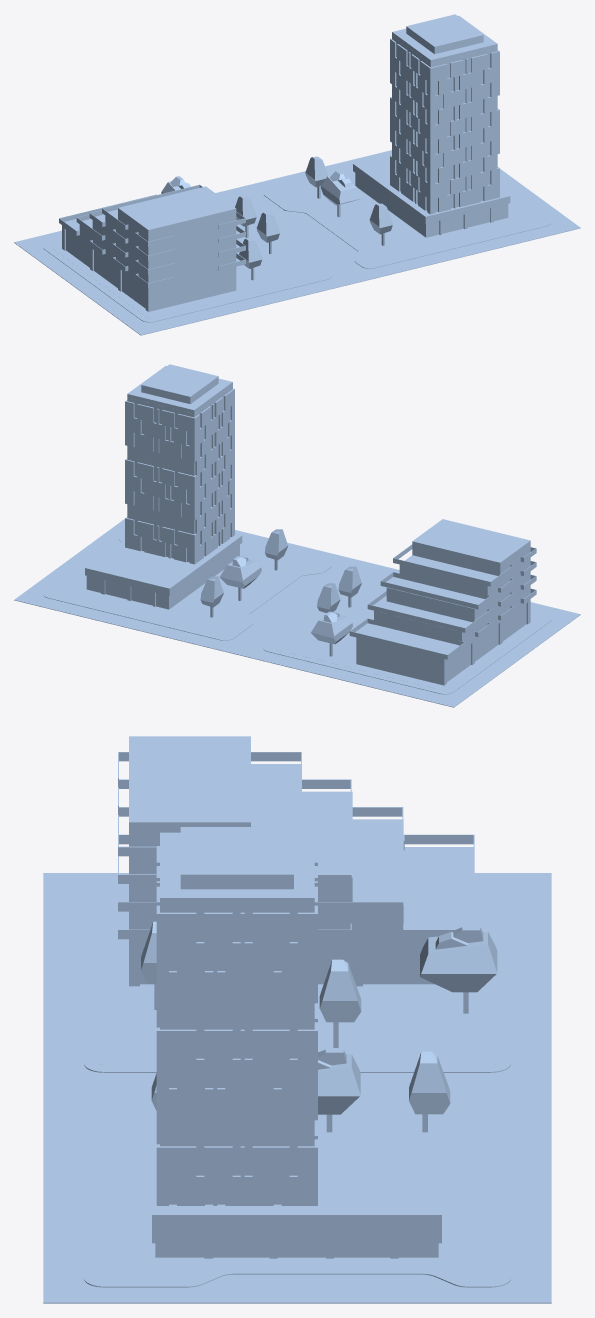
Rendered from Low_Poly_City-_2_Buildings.glb.
3 views of the same model, one above another, from view 1: azimuth 30°, elevation 25°; view 2: azimuth 150°, elevation 25°; view 3: azimuth 270°, elevation 25° (orthographic). The views are drawn at different scales.
Parts seen in each view (by area): view 1: Body_COLOR_0 (×21), Body002_COLOR_0, Body004_COLOR_0, Body012_COLOR_0, Body006_COLOR_0; view 2: Body_COLOR_0 (×24), Body009_COLOR_0, Body004_COLOR_0, Body002_COLOR_0, Body006_COLOR_0; view 3: Body_COLOR_0 (×23), Body009_COLOR_0, Body006_COLOR_0, Body012_COLOR_0.
Part boxes in pixels (bbox=[...]): Body_COLOR_0 (×21): bbox=[14, 14, 580, 334]; Body002_COLOR_0: bbox=[369, 203, 392, 234]; Body004_COLOR_0: bbox=[256, 212, 279, 242]; Body012_COLOR_0: bbox=[239, 238, 262, 268]; Body006_COLOR_0: bbox=[235, 196, 256, 226]; Body_COLOR_0 (×24): bbox=[14, 364, 580, 706]; Body009_COLOR_0: bbox=[311, 615, 352, 644]; Body004_COLOR_0: bbox=[338, 566, 361, 597]; Body002_COLOR_0: bbox=[264, 529, 287, 560]; Body006_COLOR_0: bbox=[317, 583, 340, 612]; Body_COLOR_0 (×23): bbox=[43, 736, 551, 1303]; Body009_COLOR_0: bbox=[420, 931, 497, 992]; Body006_COLOR_0: bbox=[319, 959, 361, 1022]; Body012_COLOR_0: bbox=[141, 921, 156, 984].
Size of the model in its own units: 100 by 39.88 by 50.
